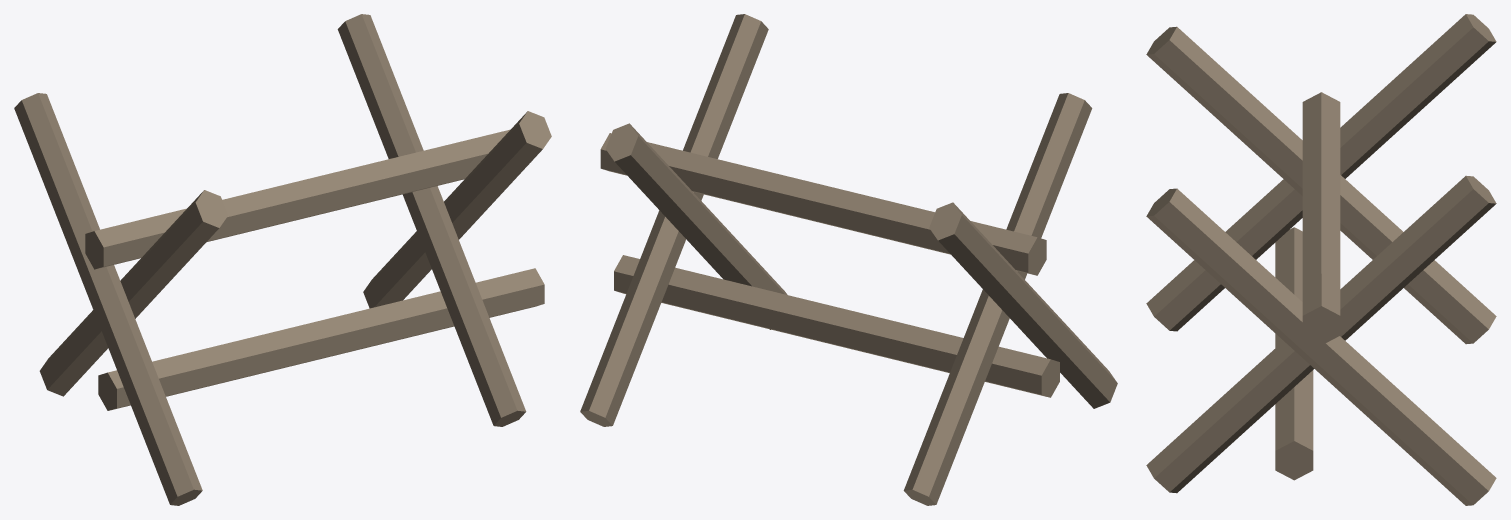
The model's file is Weapon Rack.002.fbx.
3 renders of one model, left to right at view 1: azimuth 30°, elevation 25°; view 2: azimuth 150°, elevation 25°; view 3: azimuth 270°, elevation 25°, orthographic. The views are drawn at different scales.
Parts seen in each view (by area): view 1: Weapon Rack.002; view 2: Weapon Rack.002; view 3: Weapon Rack.002.
Part boxes in pixels (left/top/right/bottom): Weapon Rack.002: left=14, top=14, right=551, bottom=505; Weapon Rack.002: left=580, top=14, right=1117, bottom=505; Weapon Rack.002: left=1146, top=14, right=1496, bottom=505.
Bounding box in the file's own units: 252 × 174 × 174.
